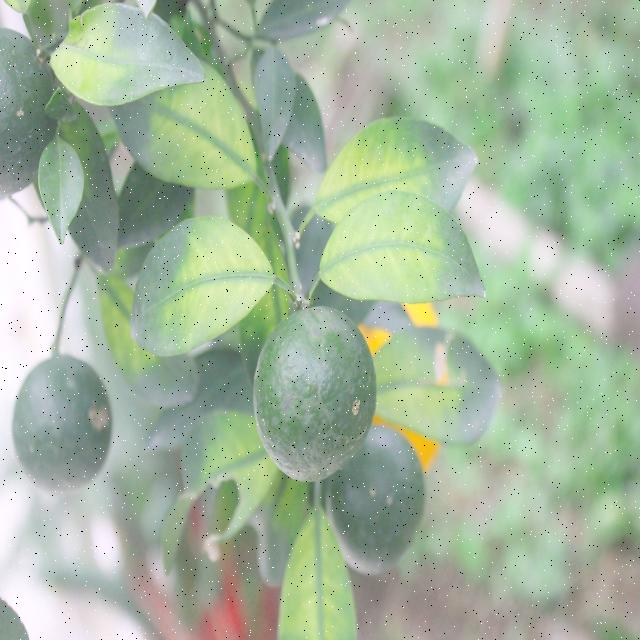greening: (136, 220, 276, 346), (322, 207, 477, 303), (127, 78, 265, 185), (334, 120, 435, 200), (281, 520, 344, 640)
